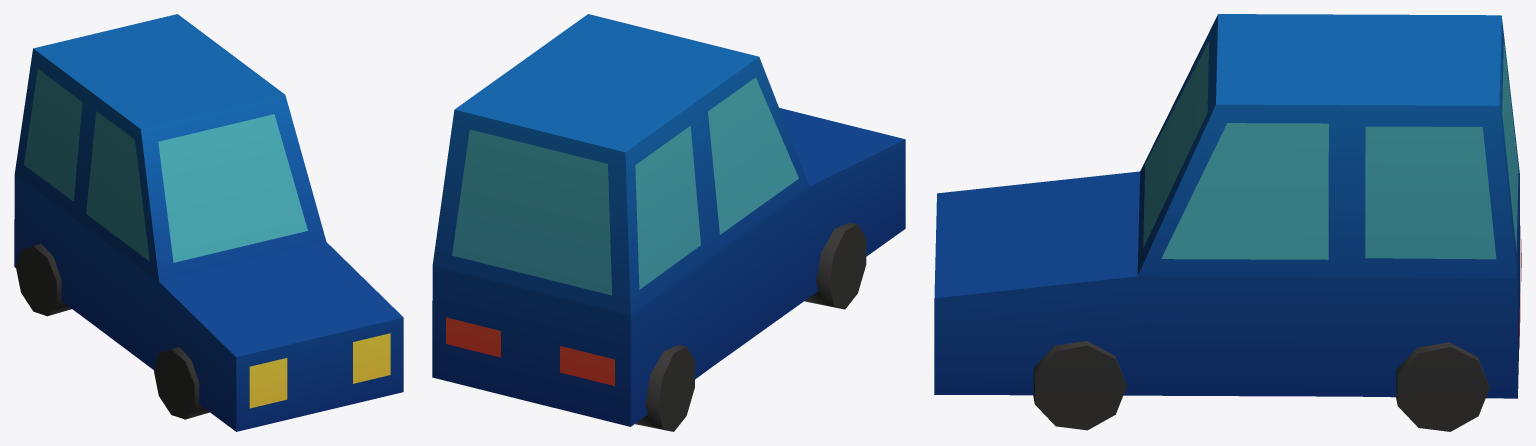
The model's file is Car_3_4.fbx.
The picture shows the model from 3 angles, left to right: view 1: azimuth 30°, elevation 25°; view 2: azimuth 150°, elevation 25°; view 3: azimuth 270°, elevation 25°; orthographic projection. The views are drawn at different scales.
Parts seen in each view (by area): view 1: Car_3_4; view 2: Car_3_4; view 3: Car_3_4.
Part boxes in pixels (bbox=[...]): Car_3_4: bbox=[14, 14, 403, 431]; Car_3_4: bbox=[432, 14, 905, 431]; Car_3_4: bbox=[934, 14, 1521, 431].
Bounding box in the file's own units: 220 × 270 × 456.
